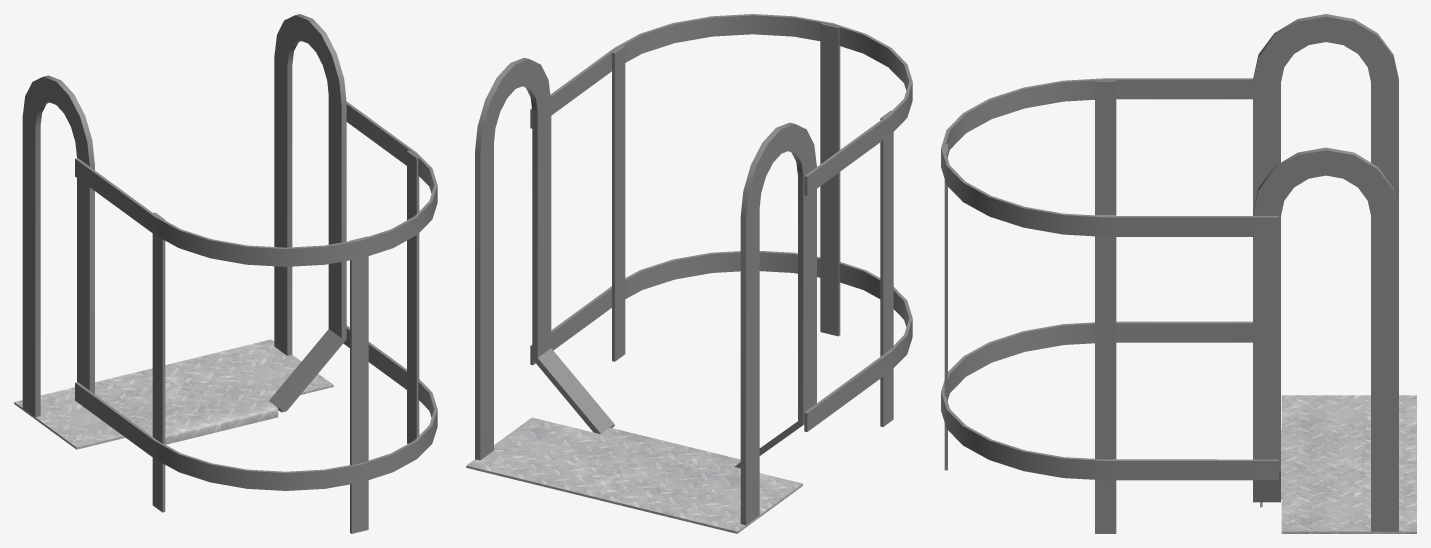
The model's file is SM06_Building_Ladder_01_Top.fbx.
3 views of the same model, side by side, from view 1: azimuth 30°, elevation 25°; view 2: azimuth 150°, elevation 25°; view 3: azimuth 270°, elevation 25° (orthographic). The views are drawn at different scales.
Parts seen in each view (by area): view 1: SM06_Building_Ladder_01_Top; view 2: SM06_Building_Ladder_01_Top; view 3: SM06_Building_Ladder_01_Top.
Part boxes in pixels (bbox=[...]): SM06_Building_Ladder_01_Top: bbox=[14, 14, 437, 533]; SM06_Building_Ladder_01_Top: bbox=[466, 14, 912, 533]; SM06_Building_Ladder_01_Top: bbox=[941, 14, 1416, 533].
Bounding box in the file's own units: 0.7661 × 1.01 × 1.11.
